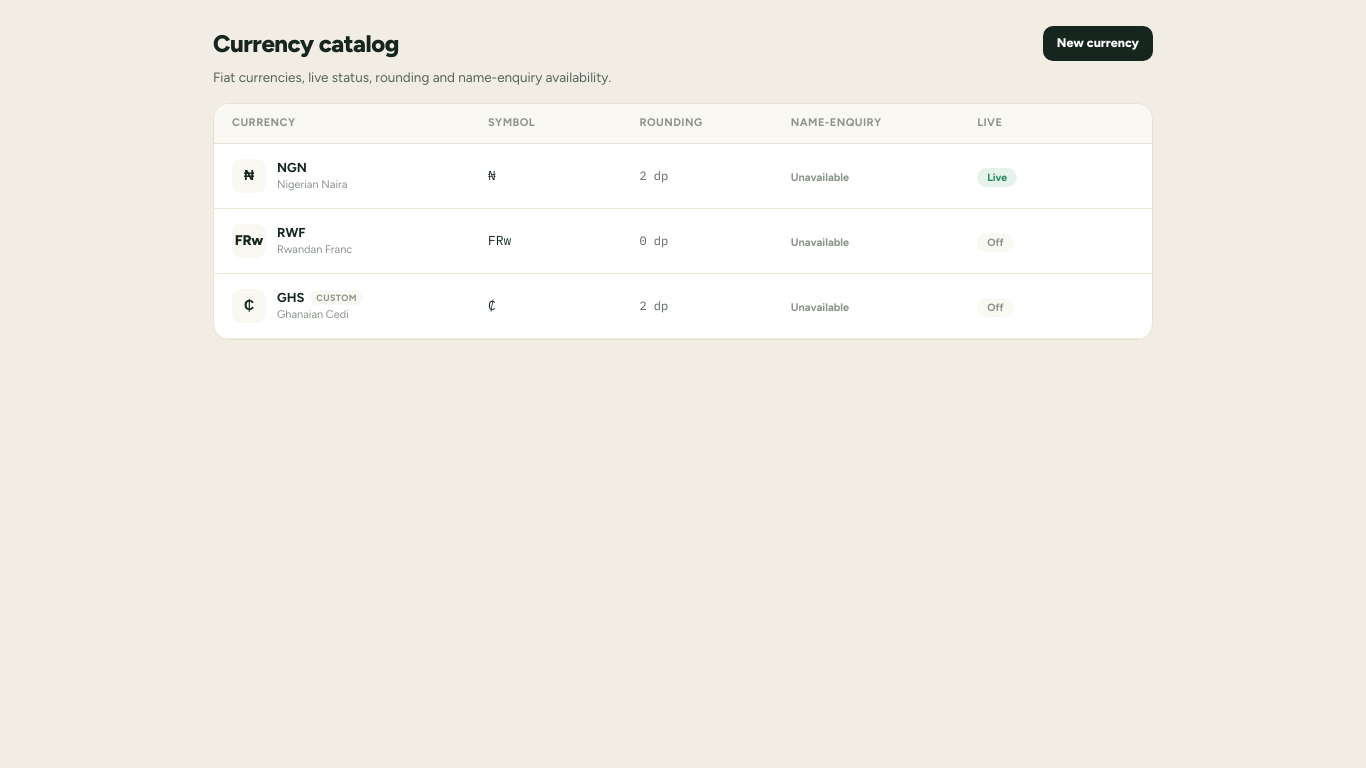
Test: CurrenciesPage › opens step-up and retries the PATCH after re-auth when the server demands step-up
Expected: the text "Nigerian Naira" is shown, x1=277 y1=177 x2=347 y2=194
Click the button with aria-label "Enable RWF".
click(995, 241)  # box x1=977 y1=229 x2=1014 y2=253
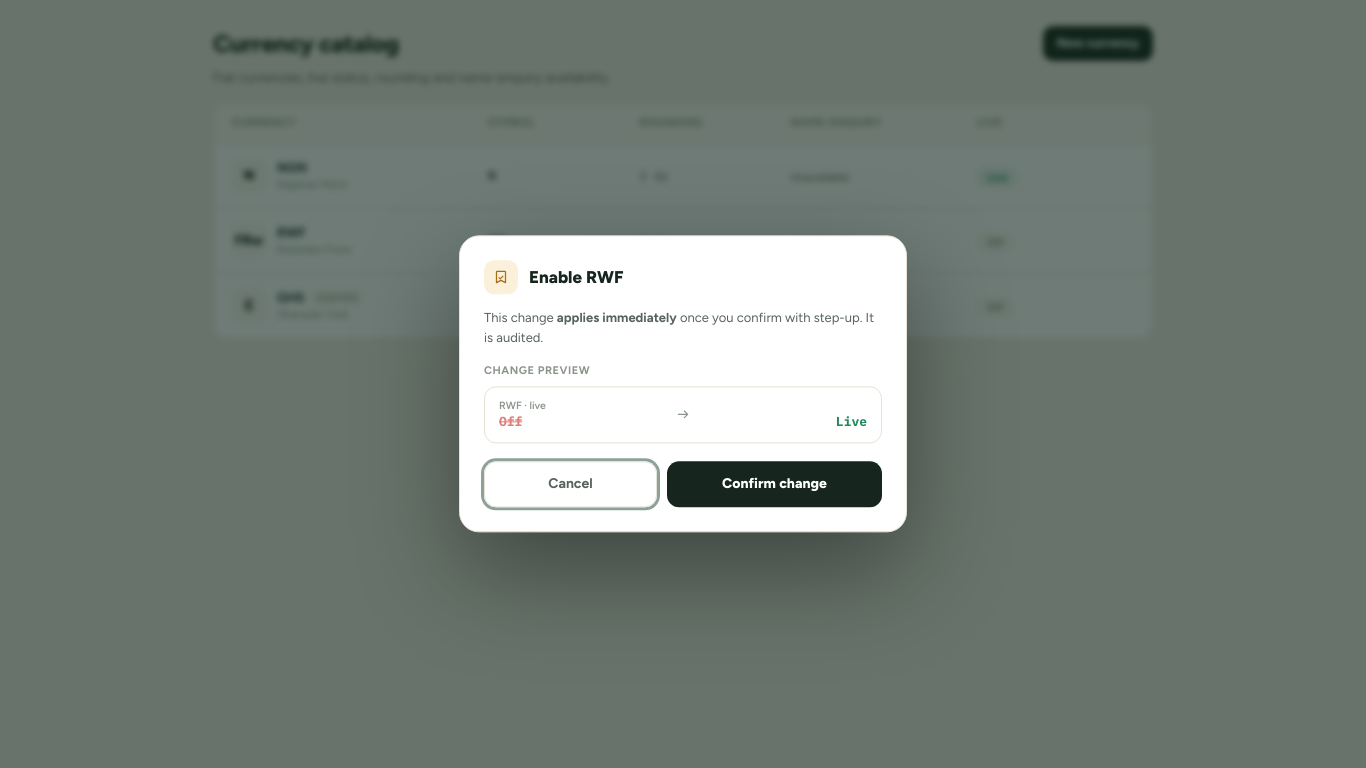
Click the button "Confirm change".
click(774, 485)  # box x1=667 y1=462 x2=882 y2=508
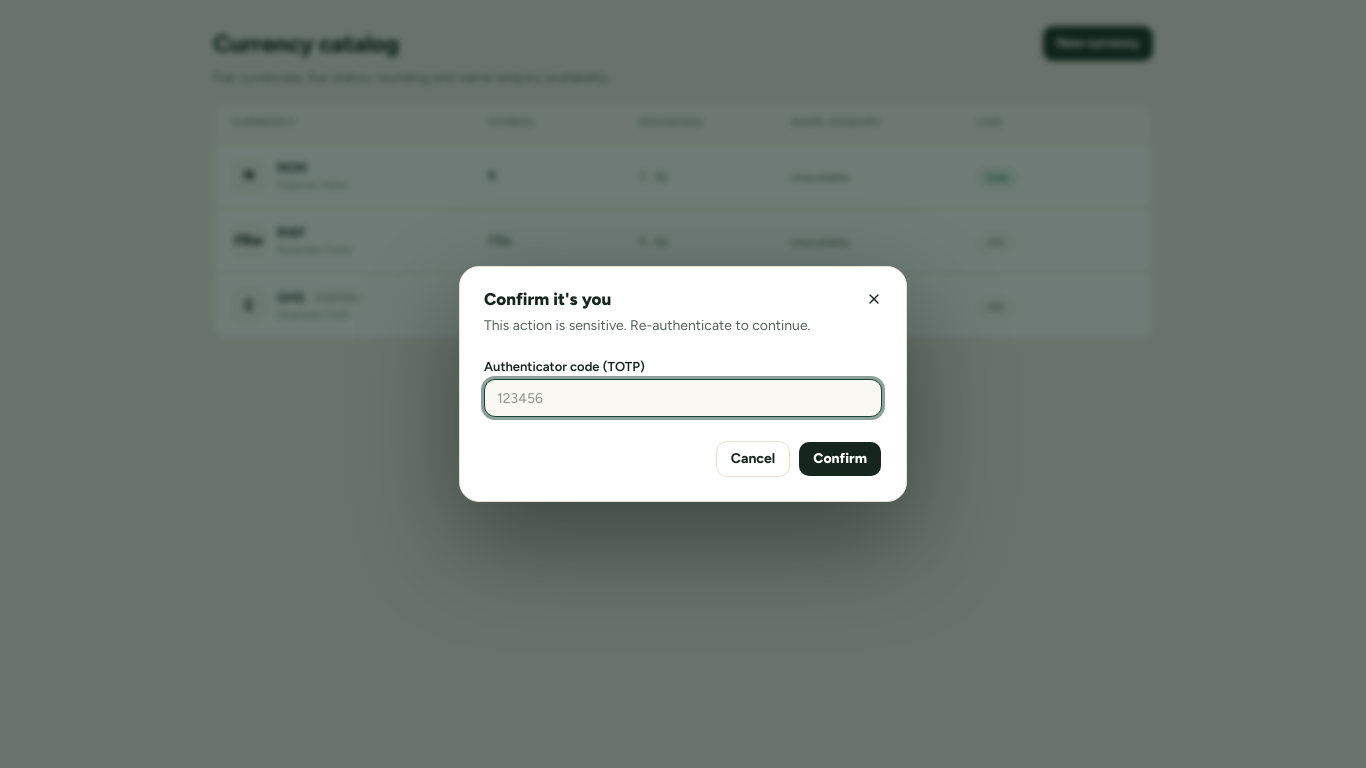
Expected: the heading "Confirm it's you" is shown, x1=484 y1=289 x2=611 y2=309
